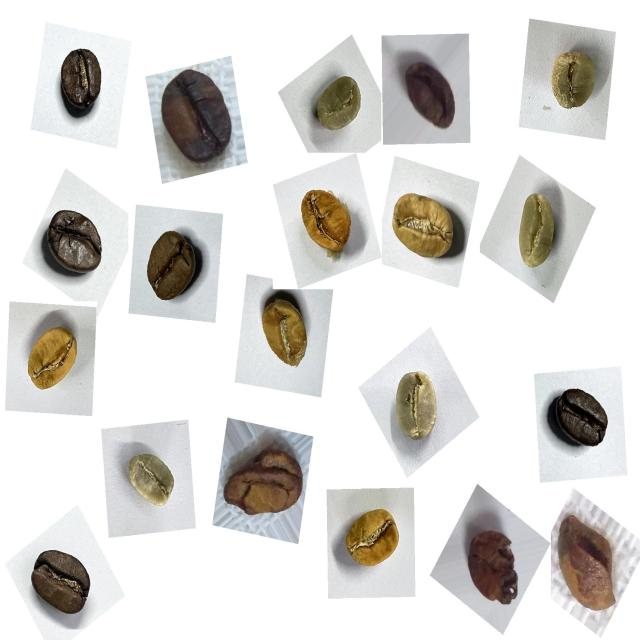bad: (215, 423, 314, 533), (153, 61, 240, 176), (546, 507, 626, 622), (452, 510, 529, 617), (389, 46, 464, 141)
dark: (20, 524, 101, 625), (36, 194, 116, 288), (544, 375, 618, 463), (49, 36, 114, 126)
green: (502, 178, 573, 281), (381, 358, 452, 454), (531, 36, 606, 125), (117, 440, 186, 520), (306, 66, 372, 146)
light: (382, 178, 468, 272), (245, 284, 318, 383), (290, 177, 364, 269), (335, 496, 409, 586), (19, 313, 90, 404)
medium: (135, 220, 211, 311)
